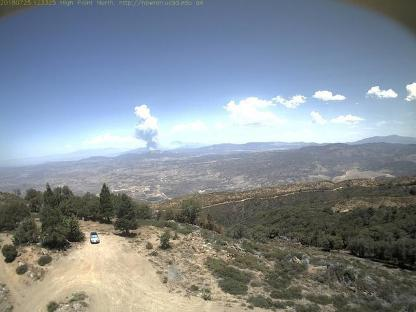smoke: (131, 102, 167, 154)
